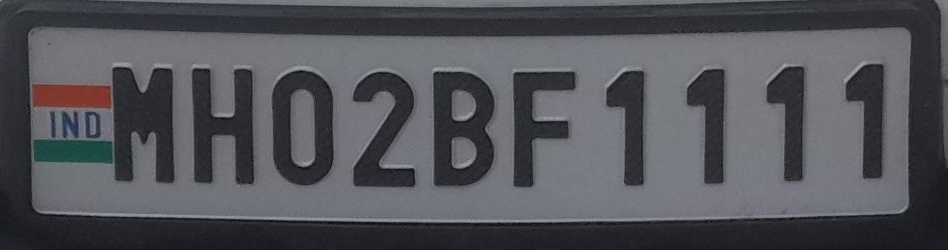character: (108, 58, 178, 189), (187, 59, 258, 187), (349, 68, 420, 189), (511, 66, 580, 190), (270, 63, 337, 187), (428, 65, 494, 187), (602, 63, 649, 187), (840, 59, 887, 182), (683, 65, 728, 189), (764, 61, 808, 185)
